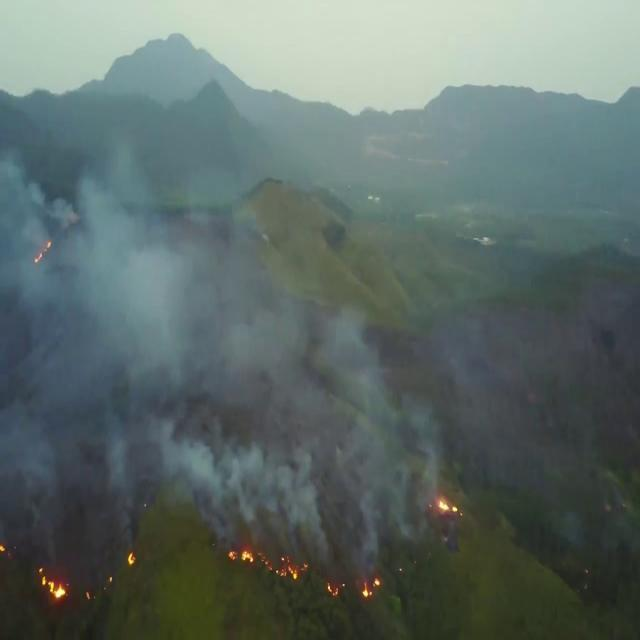Fire: (225, 546, 308, 584), (38, 564, 68, 600), (34, 237, 52, 265), (362, 577, 380, 600), (327, 580, 345, 598), (436, 497, 452, 513), (126, 552, 136, 566)
Smoke: (1, 140, 458, 582)
